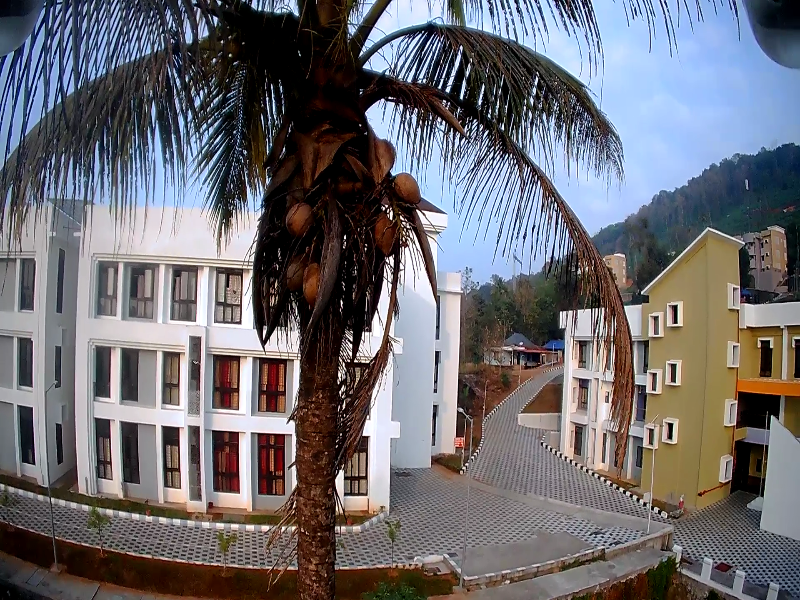coconut: (300, 263, 331, 300), (282, 200, 309, 236), (391, 174, 417, 209), (371, 212, 388, 249), (288, 257, 300, 288)
